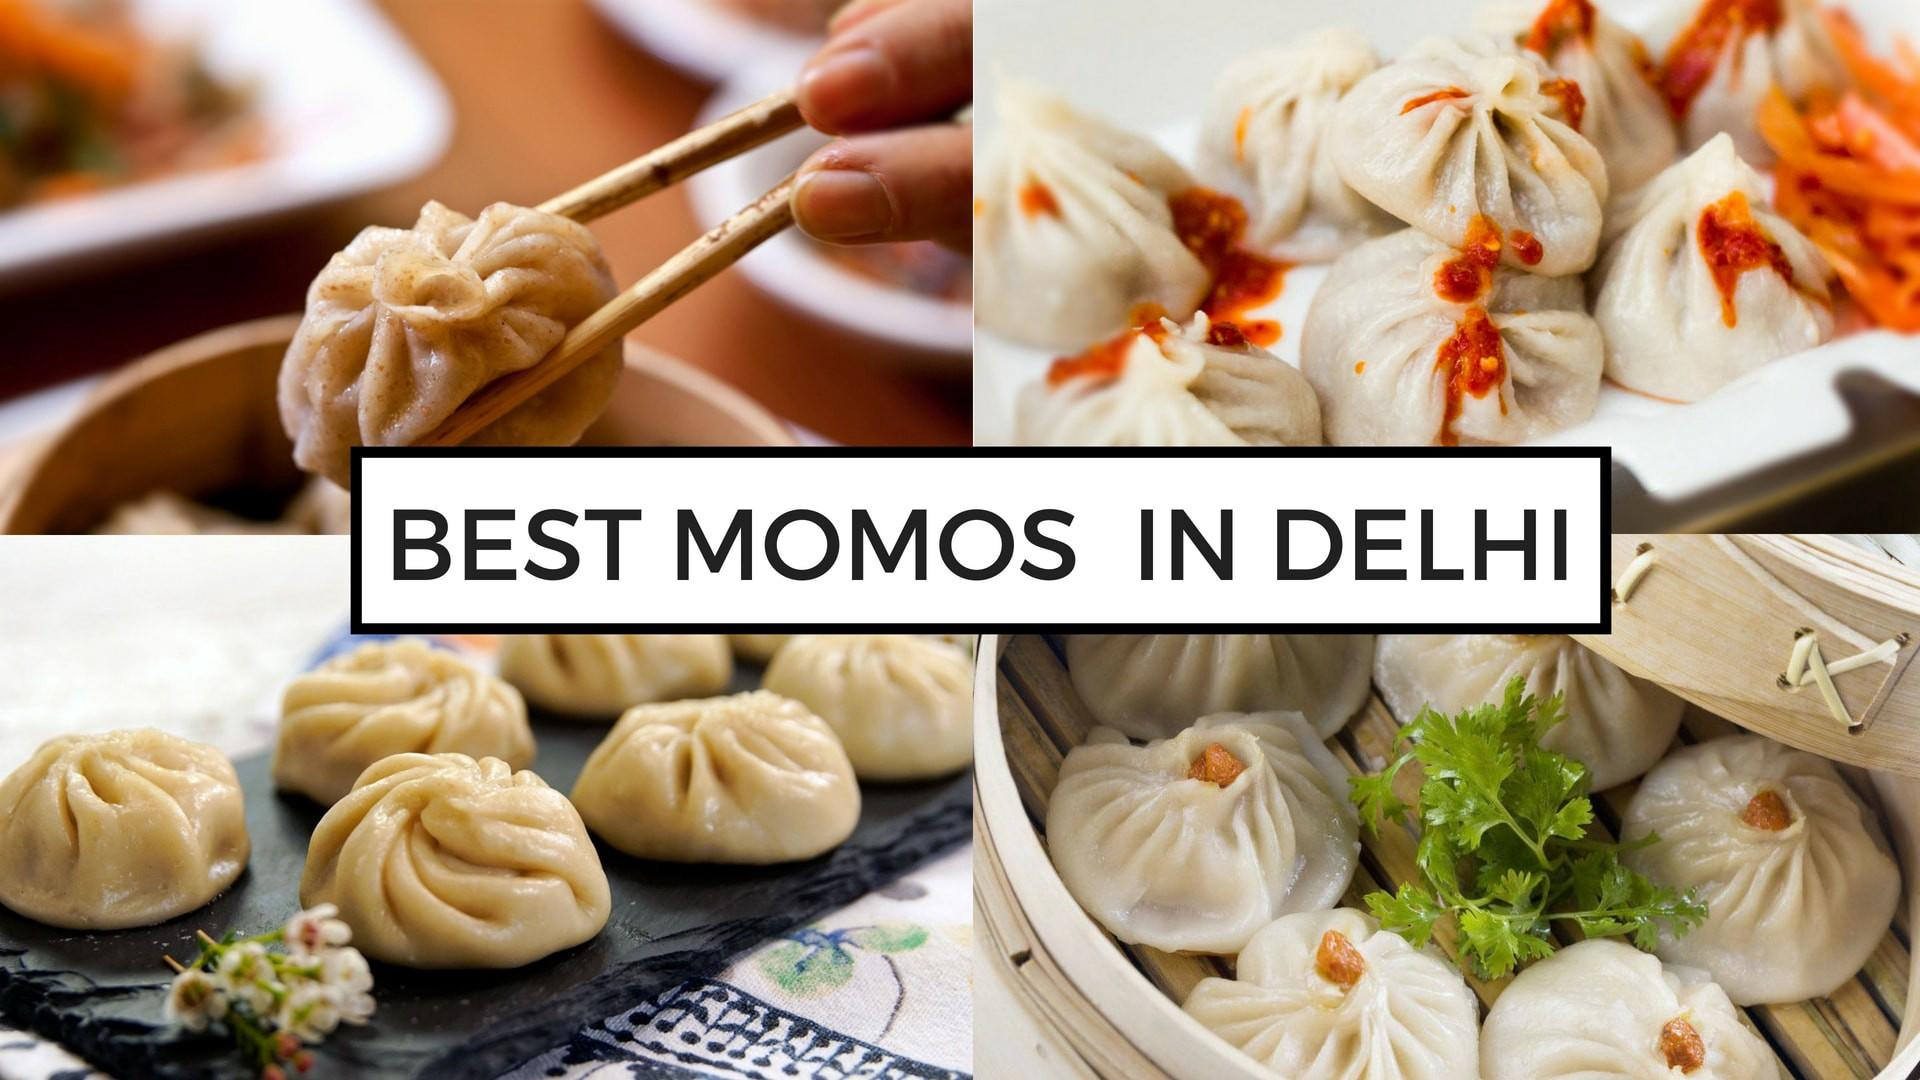momos: (277, 203, 615, 484), (1619, 735, 1902, 1005), (1046, 712, 1357, 952), (1328, 34, 1609, 277), (301, 754, 612, 968), (1302, 228, 1605, 446), (975, 75, 1212, 352), (1590, 135, 1834, 401), (0, 728, 252, 930), (1185, 907, 1477, 1080), (574, 690, 858, 862), (1196, 26, 1403, 262), (274, 641, 537, 806), (1481, 938, 1782, 1080), (1170, 716, 1357, 916), (484, 348, 618, 446), (1698, 191, 1792, 326), (1586, 1027, 1590, 1033)
